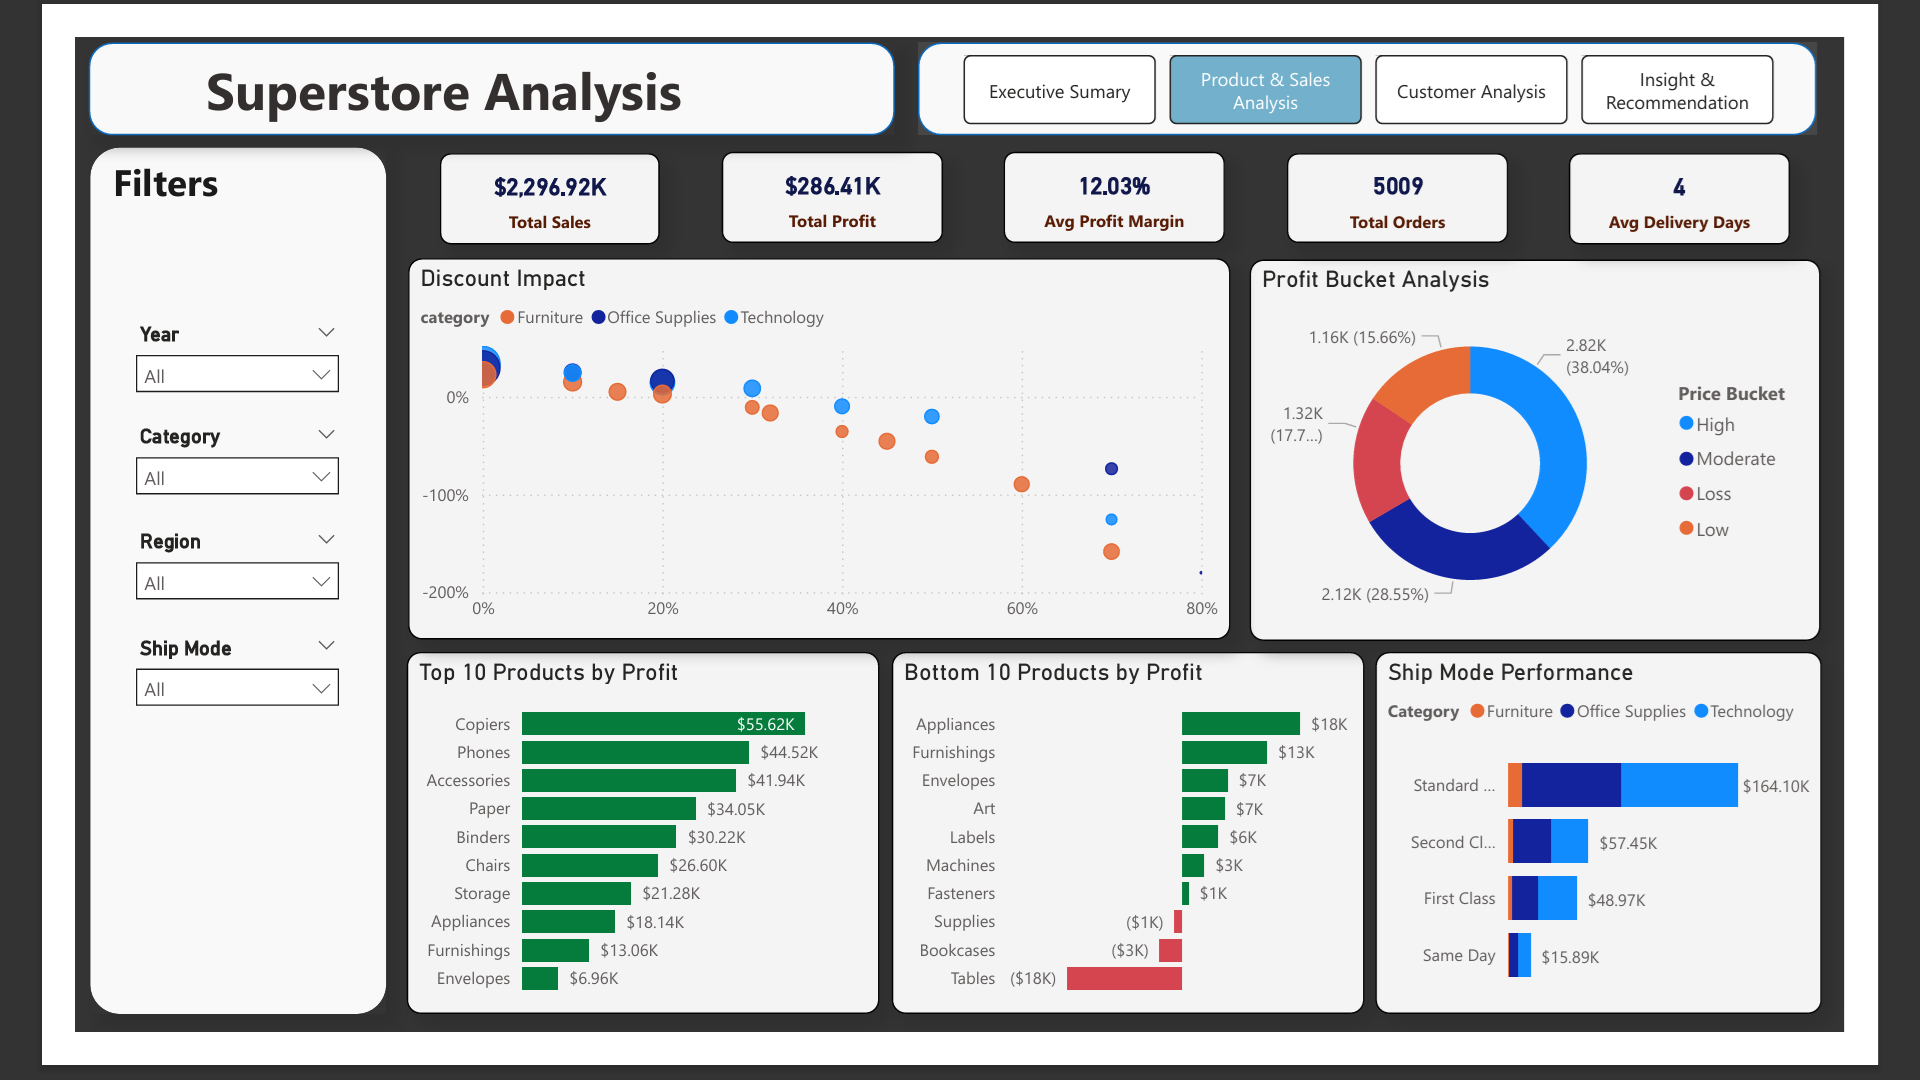

The page's visual inventory and layout, read from the dashboard file:
{"tool":"powerbi","page":{"name":"Product & Sales Analysis","canvas":[1280,720],"ordinal":1},"visuals":[{"type":"shape","box":[11,79.6,214.1,627.1],"z":0},{"type":"clusteredBarChart","title":"Top 10 Products by Profit","fields":{"Category":["public dim_product.sub_category"],"Y":["Calcs.Total Profit"]},"box":[240.1,444.6,341.7,262.1],"z":1000},{"type":"clusteredBarChart","title":"Bottom 10 Products by Profit","fields":{"Category":["public dim_product.sub_category"],"Y":["Calcs.Total Profit"]},"box":[590.6,444.6,342,262.1],"z":2000},{"type":"donutChart","title":"Profit Bucket Analysis","fields":{"Category":["public fact_order.price_bucket"],"Y":["Count(public fact_order.order_id)"]},"box":[850.4,160.9,412.9,275.7],"z":3000},{"type":"card","fields":{"Values":["public fact_order.Total Sales"]},"box":[264.3,83.9,158.6,65.7],"z":4000},{"type":"slicer","fields":{"Values":["public dim_date.order_date.Variation.Date Hierarchy.Year"]},"box":[34.4,202.5,167.1,61.4],"z":4000,"group":"g1"},{"type":"card","fields":{"Values":["public fact_order.Total Profit"]},"box":[467.5,82.8,160,65.7],"z":5000},{"type":"slicer","fields":{"Values":["public dim_location.region"]},"box":[34.4,352.8,167.1,62.9],"z":5000,"group":"g1"},{"type":"card","fields":{"Values":["public fact_order.Avg Profit Margin"]},"box":[672.1,83.1,160,65.7],"z":6000},{"type":"slicer","fields":{"Values":["public dim_product.category"]},"box":[34.4,276.8,167.1,62.9],"z":6000,"group":"g1"},{"type":"card","fields":{"Values":["public fact_order.Total Orders"]},"box":[876.8,83.5,160,65.7],"z":7000},{"type":"card","fields":{"Values":["public fact_order.Avg Delivery Days"]},"box":[1081.4,84.2,160,65.7],"z":8000},{"type":"shape","box":[10,4.3,582.9,67.1],"z":9000},{"type":"shape","box":[610,4.3,650,67.1],"z":10000},{"type":"pageNavigator","box":[642.9,12.9,585.7,50],"z":11000},{"type":"scatterChart","title":"Discount Impact","fields":{"X":["public fact_order.discount"],"Series":["public dim_product.category"],"Size":["Calcs.Total Profit"],"Y":["Calcs.Profit Margin"]},"box":[240.7,160.3,595.5,275.8],"z":13000},{"type":"barChart","title":"Ship Mode Performance","fields":{"Y":["Calcs.Total Profit"],"Category":["public shipment.ship_mode"],"Series":["public dim_product.category"]},"box":[941.3,444.6,322.5,262],"z":14000},{"type":"slicer","fields":{"Values":["public shipment.ship_mode"]},"box":[34.4,429.2,166.9,61.4],"z":17001,"group":"g1"},{"type":"group","id":"g1","title":"Group 1","box":[34.4,202.5,166.9,288.3],"z":17002}]}

Visuals, with their boxes in screenshot pixels (x1, y1, x2, y2), scaled from the page's 1280x720 canvas onto the 1920x1080 screenshot:
shape: [left=16, top=119, right=338, bottom=1060]
"Top 10 Products by Profit" clusteredBarChart: [left=360, top=667, right=873, bottom=1060]
"Bottom 10 Products by Profit" clusteredBarChart: [left=886, top=667, right=1399, bottom=1060]
"Profit Bucket Analysis" donutChart: [left=1276, top=241, right=1895, bottom=655]
card - public fact_order.Total Sales: [left=396, top=126, right=634, bottom=224]
slicer - public dim_date.order_date.Variation.Date Hierarchy.Year: [left=52, top=304, right=302, bottom=396]
card - public fact_order.Total Profit: [left=701, top=124, right=941, bottom=223]
slicer - public dim_location.region: [left=52, top=529, right=302, bottom=624]
card - public fact_order.Avg Profit Margin: [left=1008, top=125, right=1248, bottom=223]
slicer - public dim_product.category: [left=52, top=415, right=302, bottom=510]
card - public fact_order.Total Orders: [left=1315, top=125, right=1555, bottom=224]
card - public fact_order.Avg Delivery Days: [left=1622, top=126, right=1862, bottom=225]
shape: [left=15, top=6, right=889, bottom=107]
shape: [left=915, top=6, right=1890, bottom=107]
pageNavigator: [left=964, top=19, right=1843, bottom=94]
"Discount Impact" scatterChart: [left=361, top=240, right=1254, bottom=654]
"Ship Mode Performance" barChart: [left=1412, top=667, right=1896, bottom=1060]
slicer - public shipment.ship_mode: [left=52, top=644, right=302, bottom=736]
"Group 1" group: [left=52, top=304, right=302, bottom=736]
